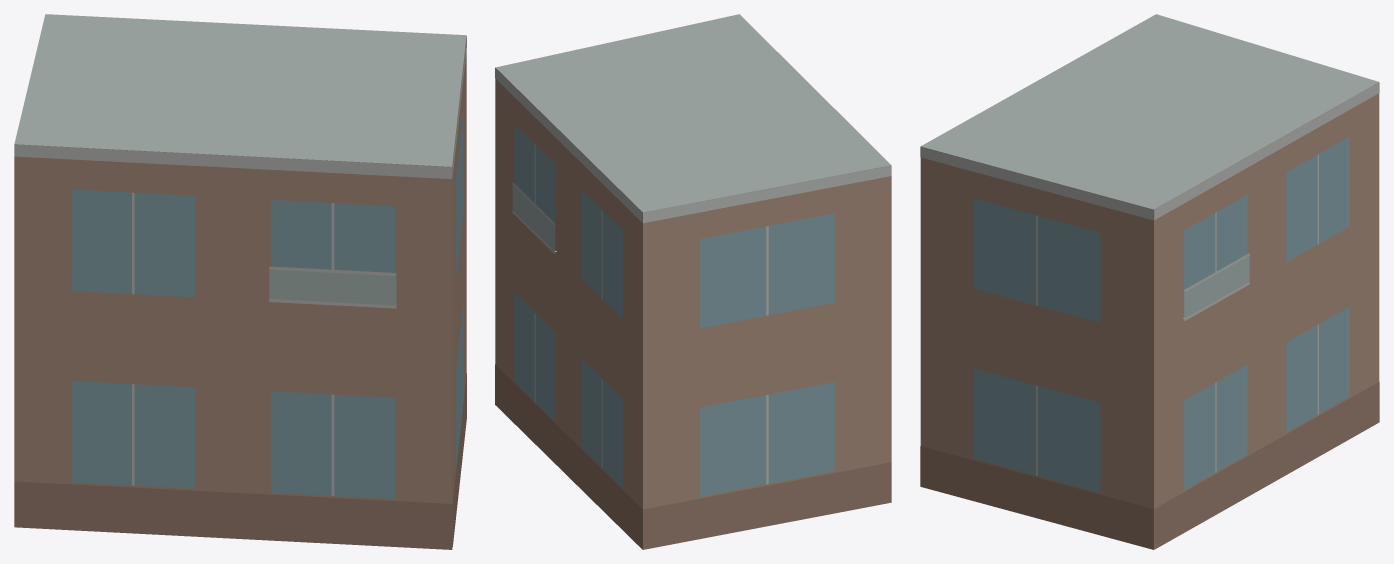
File: survey-upis-32559825.glb
3 renders of one model, left to right at view 1: azimuth 30°, elevation 25°; view 2: azimuth 150°, elevation 25°; view 3: azimuth 270°, elevation 25°, orthographic. The views are drawn at different scales.
Visible parts, largest first — view 1: survey-upis-32559825.tmp; view 2: survey-upis-32559825.tmp; view 3: survey-upis-32559825.tmp.
Boxes of the visible parts, x1,y1,x2,y2 form: survey-upis-32559825.tmp: (14,14,466,549); survey-upis-32559825.tmp: (495,14,891,549); survey-upis-32559825.tmp: (920,14,1379,549).
Bounding box in the file's own units: 9.38 × 7.6 × 9.3.
